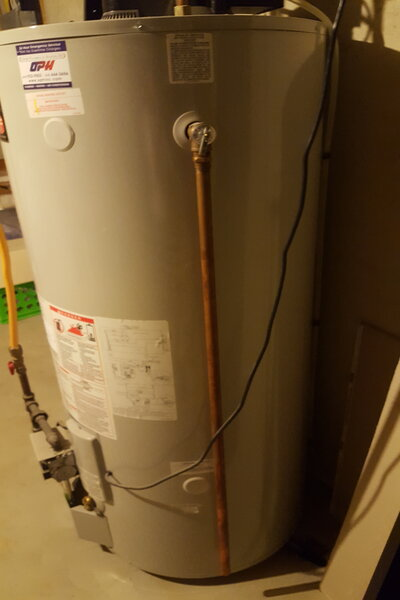valve: (183, 117, 220, 178)
